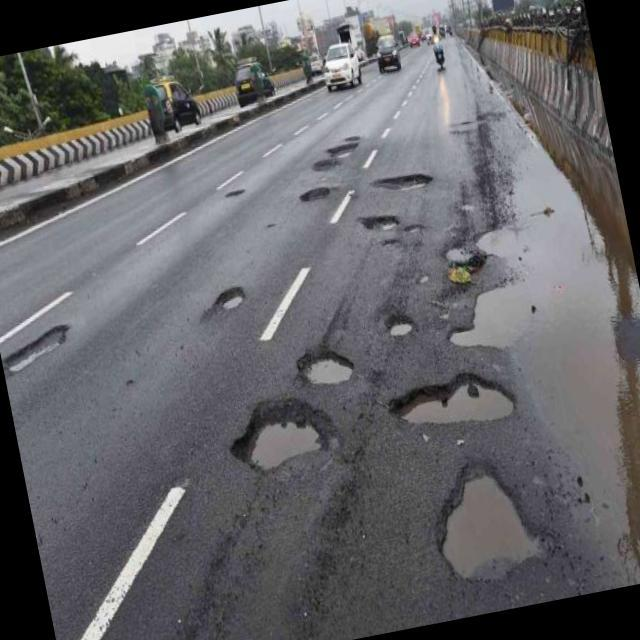Pothole: (422, 442, 554, 603), (222, 384, 336, 482), (386, 362, 520, 441), (438, 272, 536, 366), (0, 318, 74, 378), (294, 345, 360, 391), (472, 218, 530, 262), (376, 167, 436, 200), (441, 236, 481, 272), (217, 283, 248, 317), (362, 207, 398, 235), (387, 312, 414, 343), (326, 138, 360, 160), (314, 153, 344, 174), (302, 184, 332, 204), (414, 264, 432, 288), (407, 222, 424, 235)
